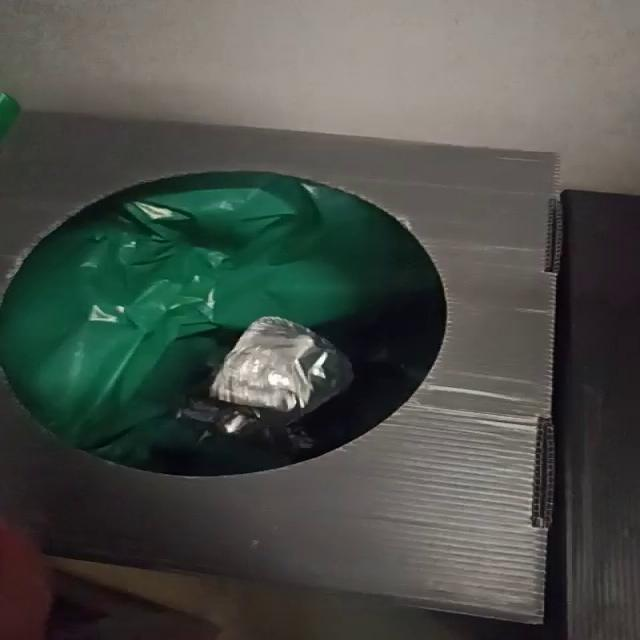bin: (1, 113, 560, 624)
metal: (211, 317, 328, 412)
